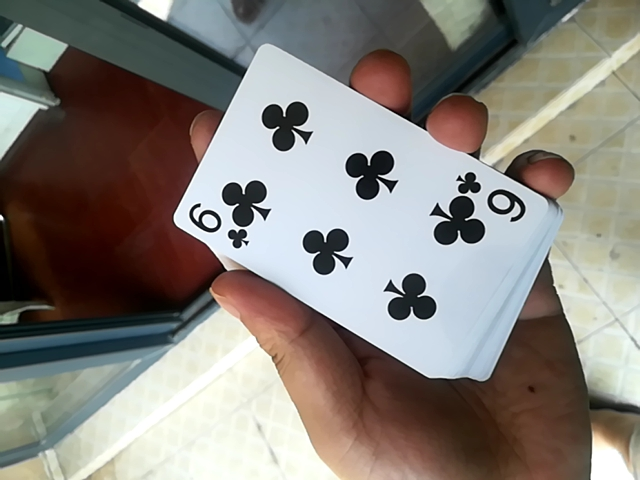mh 6: (183, 22, 546, 385)
